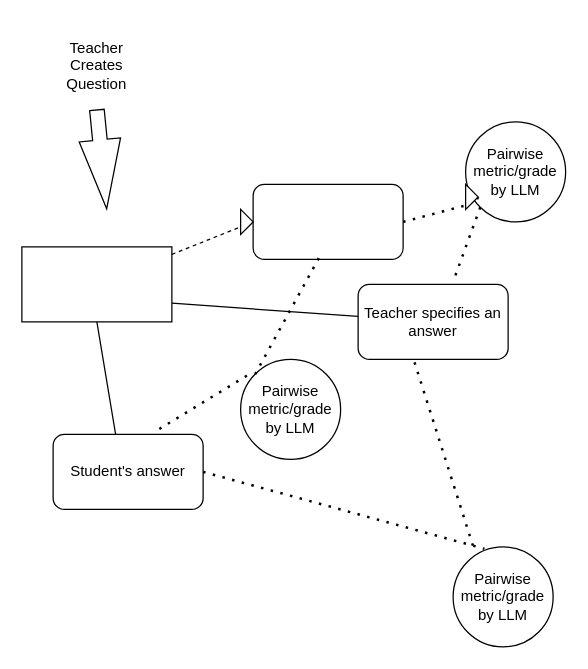
This 588x669 diagram has some shape labels left out. Each missing label, with the centre of its shape:
"LLM suggests an answer" goes at point (327, 221).
"Where is India Located?" goes at point (96, 284).
